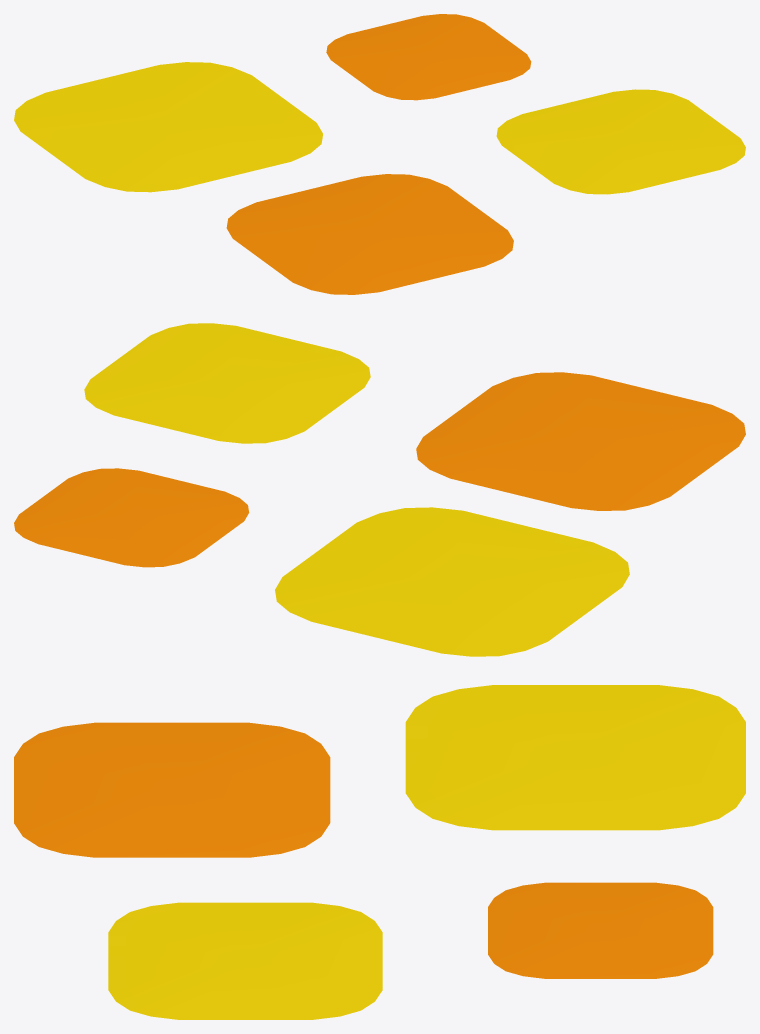
The model's file is PathNewSmall.fbx.
3 renders of one model, top to bottom at view 1: azimuth 30°, elevation 25°; view 2: azimuth 150°, elevation 25°; view 3: azimuth 270°, elevation 25°, orthographic. The views are drawn at different scales.
Visible parts, largest first — view 1: Path; view 2: Path; view 3: Path.
Boxes of the visible parts, x1,y1,x2,y2 form: Path: (14,14,745,294); Path: (14,323,745,656); Path: (14,685,745,1019).
Bounding box in the file's own units: 2.46 × 0.0242 × 2.27.
